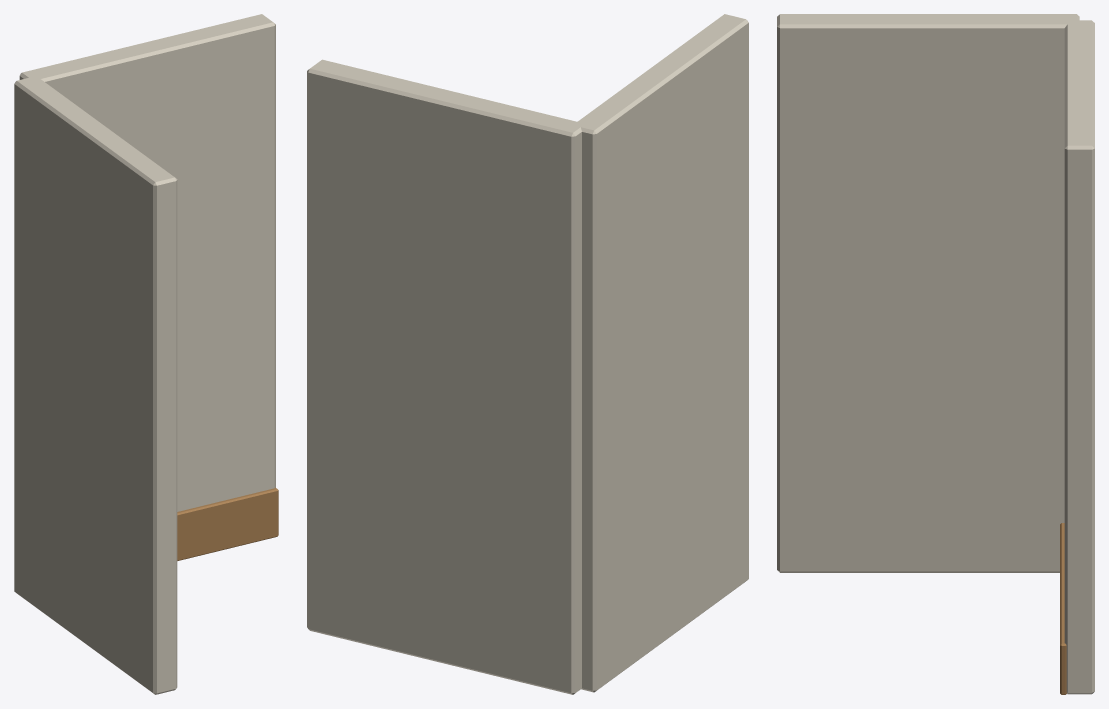
Rendered from wall_corner.glb.
The picture shows the model from 3 angles, left to right: view 1: azimuth 30°, elevation 25°; view 2: azimuth 150°, elevation 25°; view 3: azimuth 270°, elevation 25°; orthographic projection. The views are drawn at different scales.
Parts seen in each view (by area): view 1: wall_corner; view 2: wall_corner; view 3: wall_corner.
Part boxes in pixels (left/top/right/bottom): wall_corner: left=14, top=14, right=278, bottom=694; wall_corner: left=307, top=14, right=748, bottom=694; wall_corner: left=777, top=14, right=1094, bottom=694.
Size of the model in its own units: 1.58 by 3 by 1.58.
